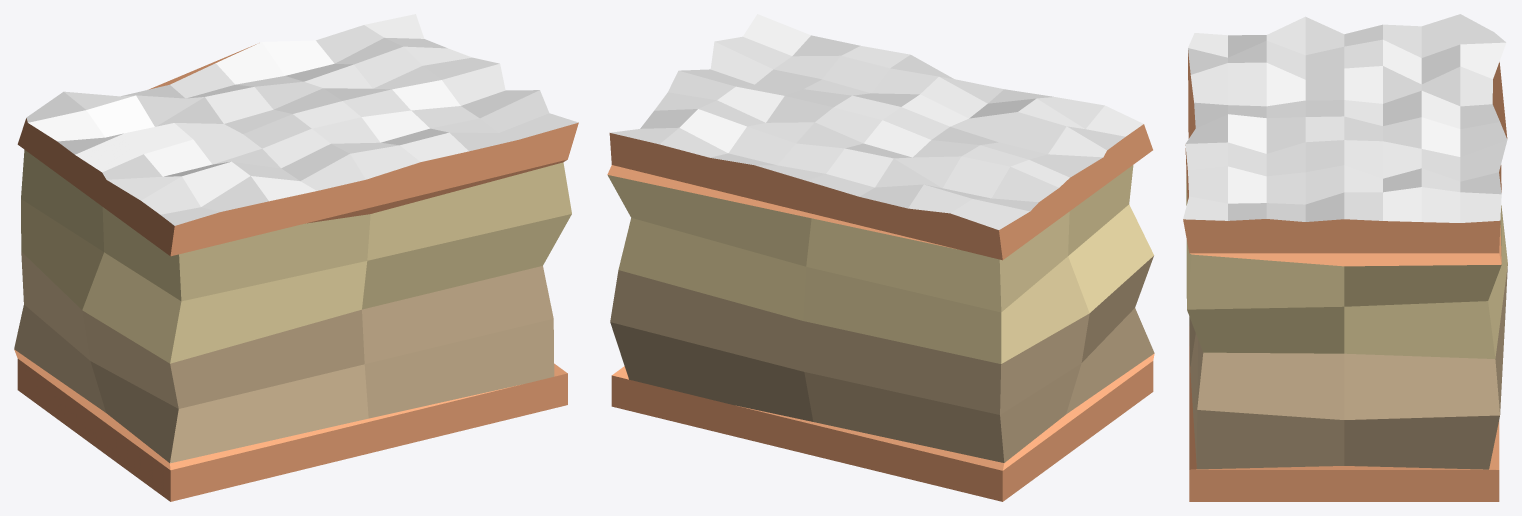
The model's file is kremowka.fbx.
The picture shows the model from 3 angles, left to right: view 1: azimuth 30°, elevation 25°; view 2: azimuth 150°, elevation 25°; view 3: azimuth 270°, elevation 25°; orthographic projection. The views are drawn at different scales.
Parts seen in each view (by area): view 1: Cube; view 2: Cube; view 3: Cube.
Boxes of the visible parts, x1,y1,x2,y2 form: Cube: [14, 14, 578, 501]; Cube: [607, 14, 1154, 501]; Cube: [1183, 14, 1507, 501].
Size of the model in its own units: 158 by 104 by 105.
